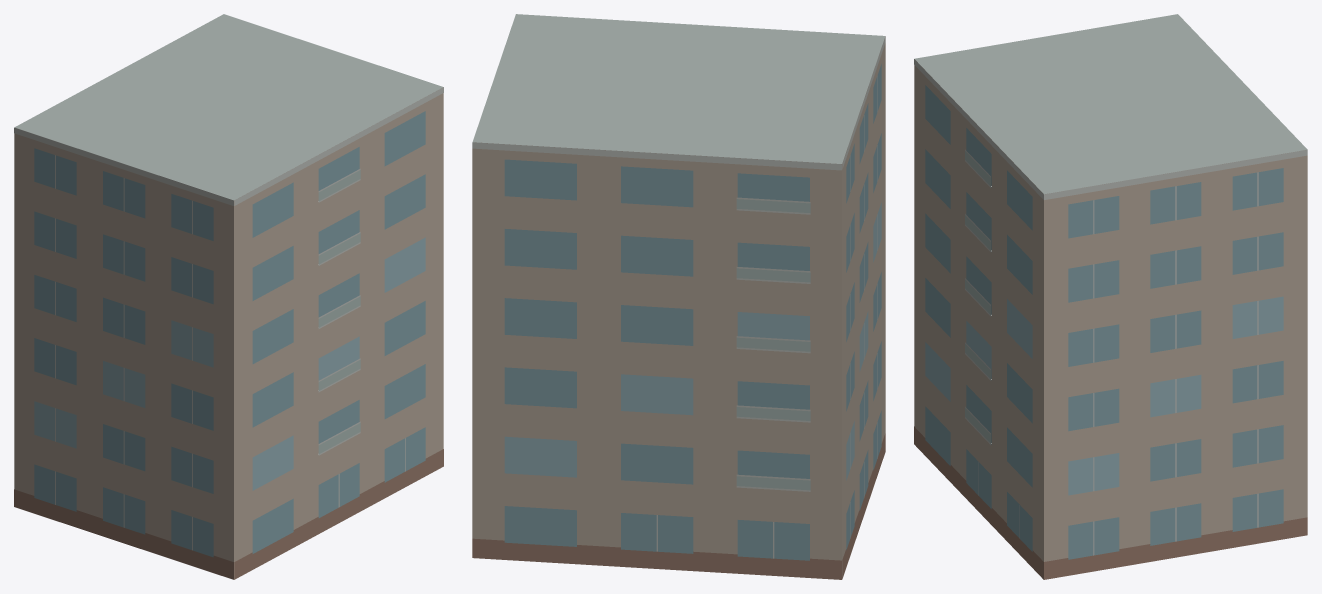
Rendered from survey-upis-32930896.glb.
The picture shows the model from 3 angles, left to right: view 1: azimuth 30°, elevation 25°; view 2: azimuth 150°, elevation 25°; view 3: azimuth 270°, elevation 25°; orthographic projection. The views are drawn at different scales.
Parts seen in each view (by area): view 1: survey-upis-32930896.tmp; view 2: survey-upis-32930896.tmp; view 3: survey-upis-32930896.tmp.
Boxes of the visible parts, x1,y1,x2,y2 form: survey-upis-32930896.tmp: [14, 14, 443, 579]; survey-upis-32930896.tmp: [472, 14, 885, 579]; survey-upis-32930896.tmp: [914, 14, 1307, 579].
Bounding box in the file's own units: 15.95 × 15.9 × 14.72.
